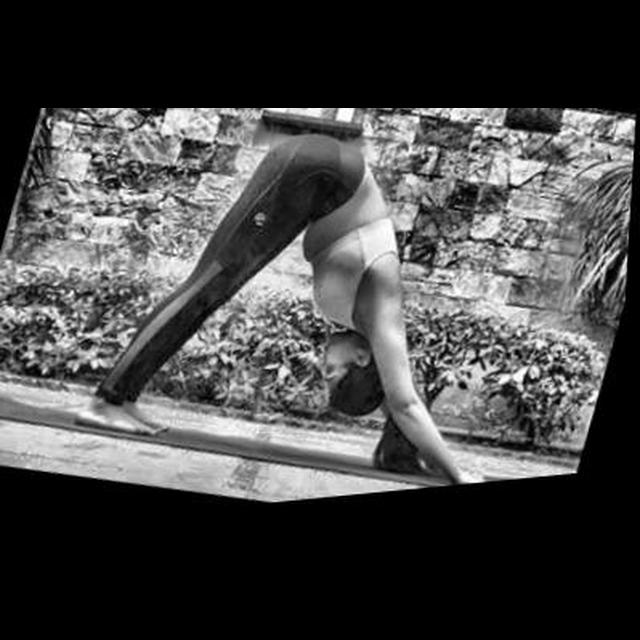Downward-Facing_Dog: (65, 126, 508, 491)
